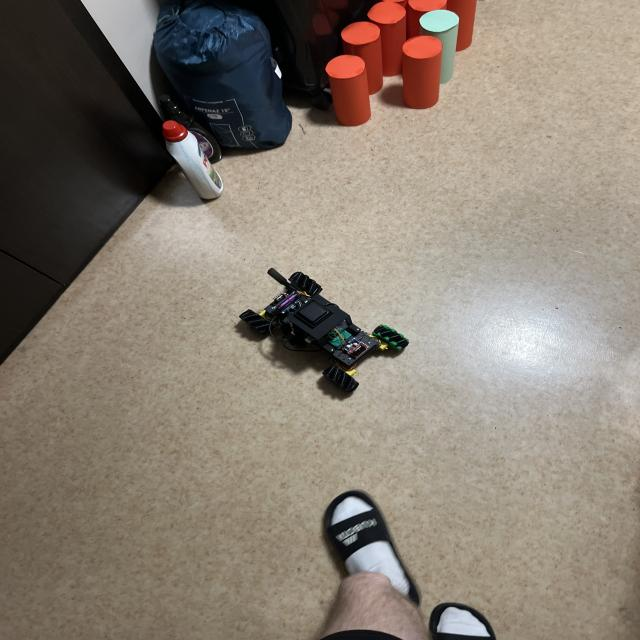robot: (239, 269, 409, 392)
